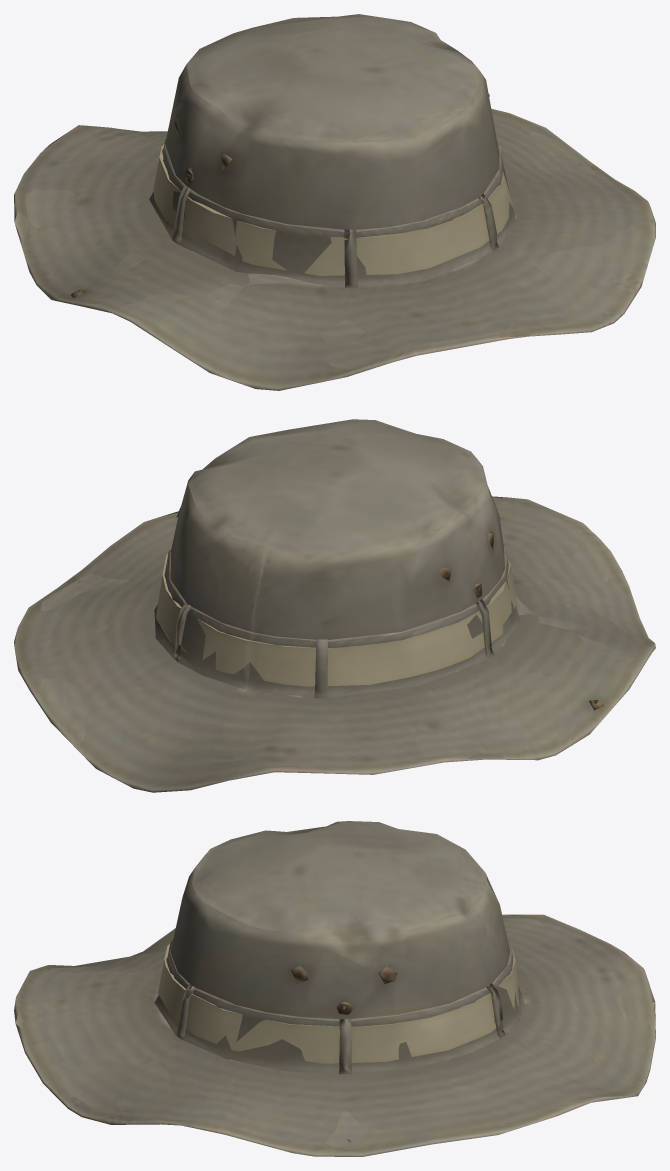
File: hat_fischer.glb
3 renders of one model, top to bottom at view 1: azimuth 30°, elevation 25°; view 2: azimuth 150°, elevation 25°; view 3: azimuth 270°, elevation 25°, orthographic. The views are drawn at different scales.
Bounding box in the file's own units: 0.3228 × 0.1236 × 0.3494.
Materials: 1 (1 with a texture image).
